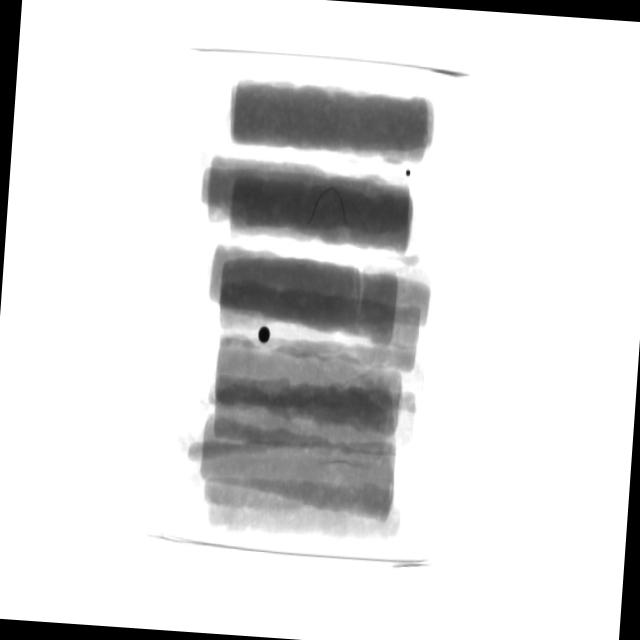ym: (258, 325, 271, 344), (406, 171, 411, 177)
